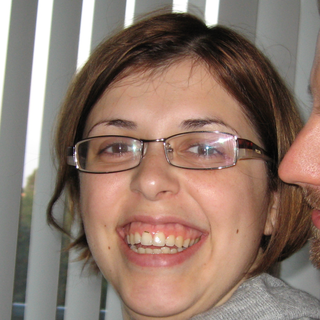eye: (94, 139, 141, 162), (178, 140, 222, 162)
